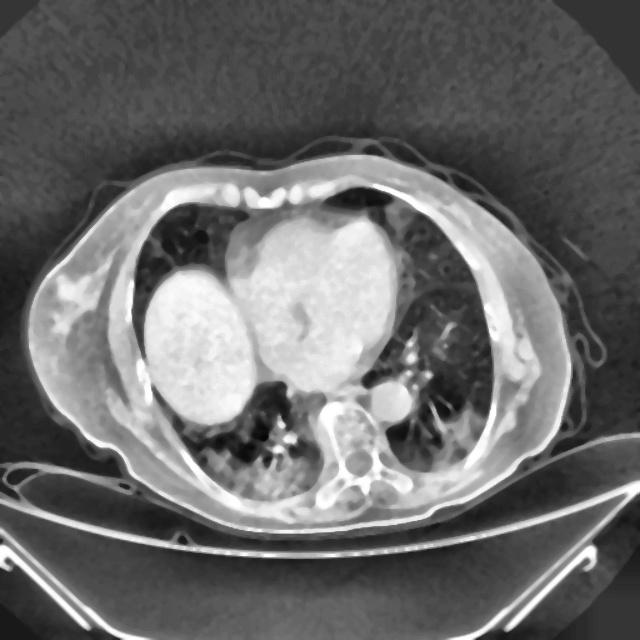covid: (24, 138, 595, 540)
